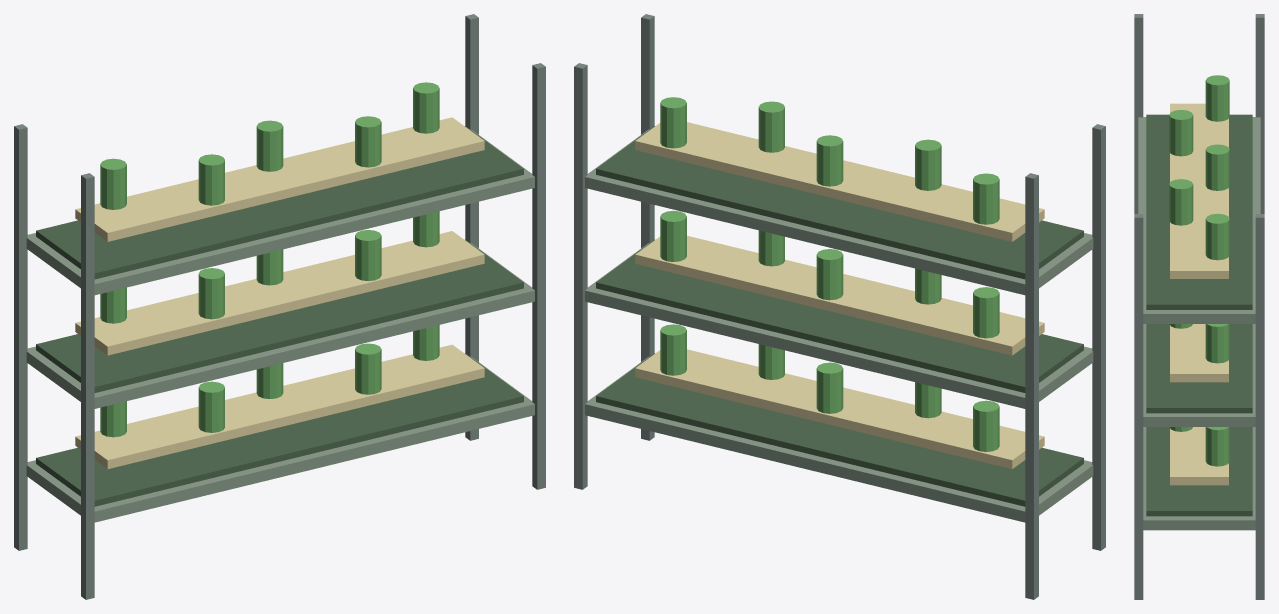
Rendered from rack_module_2400x650x2100.obj.
3 renders of one model, left to right at view 1: azimuth 30°, elevation 25°; view 2: azimuth 150°, elevation 25°; view 3: azimuth 270°, elevation 25°, orthographic. The views are drawn at different scales.
Visible parts, largest first — view 1: Rack_tray, Rack_LED, Rack_shelf, Rack_upright, Rack_plant; view 2: Rack_tray, Rack_LED, Rack_shelf, Rack_upright, Rack_plant; view 3: Rack_tray, Rack_LED, Rack_upright, Rack_shelf, Rack_plant.
Boxes of the visible parts, x1,y1,x2,y2 form: Rack_tray: (36, 126, 523, 506); Rack_LED: (75, 117, 484, 469); Rack_shelf: (26, 129, 534, 522); Rack_upright: (14, 14, 545, 599); Rack_plant: (100, 82, 439, 437); Rack_tray: (596, 126, 1083, 506); Rack_LED: (635, 122, 1044, 469); Rack_shelf: (585, 129, 1093, 522); Rack_upright: (574, 14, 1105, 599); Rack_plant: (660, 97, 999, 451); Rack_tray: (1146, 114, 1252, 516); Rack_LED: (1170, 103, 1228, 485); Rack_upright: (1134, 14, 1264, 599); Rack_shelf: (1138, 117, 1260, 530); Rack_plant: (1169, 75, 1229, 466).
Size of the model in its own units: 2.4 by 2.1 by 0.65.
